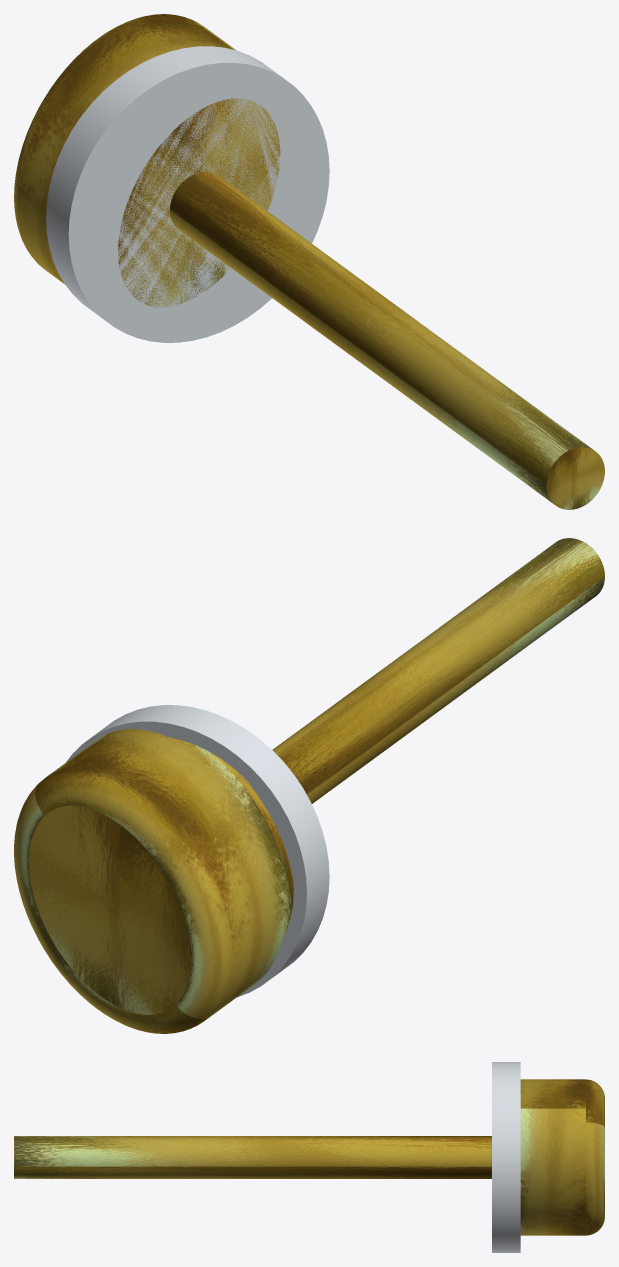
File: vivAlfano.gltf
3 renders of one model, top to bottom at view 1: azimuth 30°, elevation 25°; view 2: azimuth 150°, elevation 25°; view 3: azimuth 270°, elevation 25°, orthographic. The views are drawn at different scales.
Visible parts, largest first — view 1: mesh4_mesh, mesh0_mesh_1, mesh11_mesh, mesh11_mesh_3, mesh4_mesh_1, mesh0_mesh_2, mesh0_mesh, mesh11_mesh_6, mesh4_mesh_2; view 2: mesh11_mesh_7, mesh0_mesh_1, mesh11_mesh_3, mesh11_mesh_6, mesh4_mesh_1, mesh11_mesh_5, mesh4_mesh_3, mesh0_mesh_2, mesh4_mesh_2, mesh11_mesh_1; view 3: mesh0_mesh_1, mesh11_mesh_4, mesh0_mesh_2, mesh4_mesh_1, mesh11_mesh_5, mesh11_mesh_3, mesh4_mesh_2, mesh11_mesh_6.
Part boxes in pixels (bbox=[...]): mesh4_mesh: bbox=[68, 62, 329, 342]; mesh0_mesh_1: bbox=[170, 171, 593, 485]; mesh11_mesh: bbox=[118, 98, 280, 307]; mesh11_mesh_3: bbox=[18, 16, 232, 283]; mesh4_mesh_1: bbox=[46, 46, 282, 234]; mesh0_mesh_2: bbox=[170, 210, 553, 503]; mesh0_mesh: bbox=[546, 447, 604, 509]; mesh11_mesh_6: bbox=[14, 14, 193, 265]; mesh4_mesh_2: bbox=[46, 218, 105, 320]; mesh11_mesh_7: bbox=[29, 805, 191, 1014]; mesh0_mesh_1: bbox=[272, 538, 604, 794]; mesh11_mesh_3: bbox=[56, 729, 291, 1019]; mesh11_mesh_6: bbox=[35, 766, 232, 1018]; mesh4_mesh_1: bbox=[93, 705, 329, 892]; mesh11_mesh_5: bbox=[14, 784, 208, 1033]; mesh4_mesh_3: bbox=[66, 721, 306, 997]; mesh0_mesh_2: bbox=[307, 577, 604, 803]; mesh4_mesh_2: bbox=[271, 877, 329, 978]; mesh11_mesh_1: bbox=[210, 752, 293, 913]; mesh0_mesh_1: bbox=[14, 1136, 491, 1166]; mesh11_mesh_4: bbox=[520, 1108, 585, 1235]; mesh0_mesh_2: bbox=[14, 1166, 491, 1178]; mesh4_mesh_1: bbox=[492, 1062, 520, 1197]; mesh11_mesh_5: bbox=[586, 1122, 604, 1235]; mesh11_mesh_3: bbox=[520, 1079, 585, 1108]; mesh4_mesh_2: bbox=[492, 1198, 520, 1252]; mesh11_mesh_6: bbox=[586, 1079, 604, 1126].
Size of the model in its own units: 0.0508 by 0.0507 by 0.157.
Materials: 2 (1 with a texture image).
